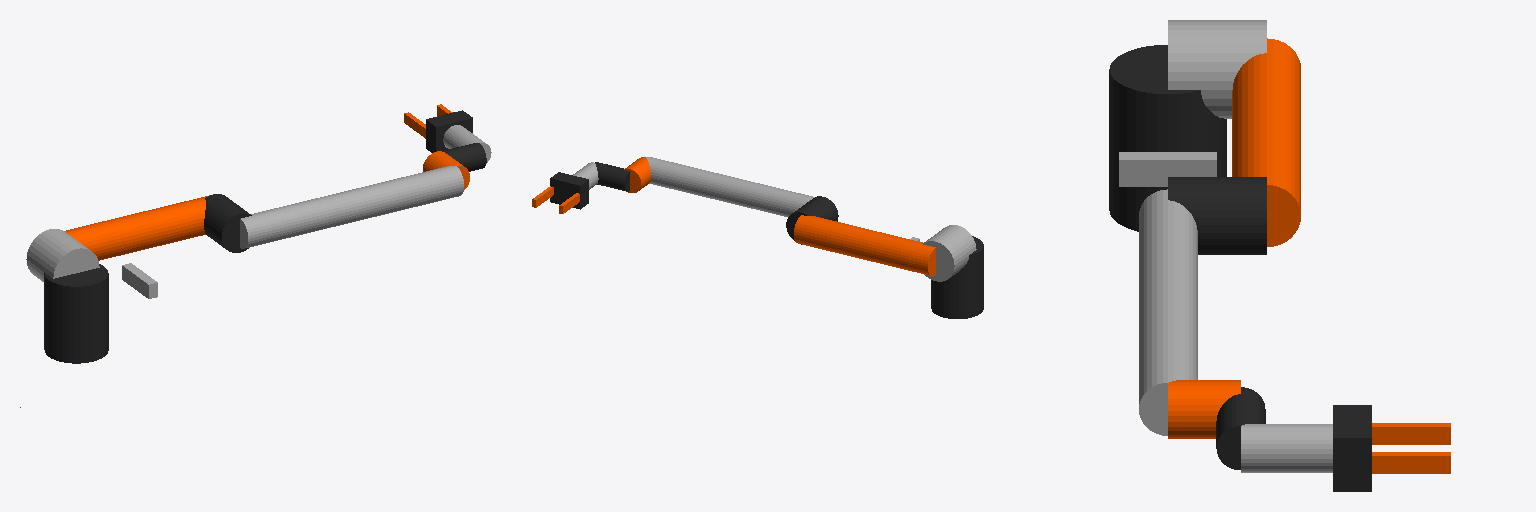
URDF robot description (rescue_robot):
<?xml version="1.0" ?>
<!-- =================================================================================== -->
<!-- |    This document was autogenerated by xacro from rescue_robot_v2.urdf.xacro     | -->
<!-- |    EDITING THIS FILE BY HAND IS NOT RECOMMENDED                                 | -->
<!-- =================================================================================== -->
<robot name="rescue_robot">
  <!-- ================= MATERIALES ================= -->
  <material name="gray">
    <color rgba="0.7 0.7 0.7 1.0"/>
  </material>
  <material name="orange">
    <color rgba="1.0 0.4 0.0 1.0"/>
  </material>
  <material name="black">
    <color rgba="0.2 0.2 0.2 1.0"/>
  </material>
  <material name="silver">
    <color rgba="0.75 0.75 0.75 1.0"/>
  </material>
  <!-- ================= BASE ROBOT ================= -->
  <link name="base_footprint">
    <visual>
      <geometry>
        <box size="0.001 0.001 0.001"/>
      </geometry>
    </visual>
  </link>
  <joint name="base_to_base_footprint" type="fixed">
    <parent link="base_link"/>
    <child link="base_footprint"/>
    <origin rpy="0 0 0" xyz="0 0 -0.03"/>
  </joint>
  <link name="base_link">
    <inertial>
      <origin rpy="0 0 0" xyz="0 0 0"/>
      <mass value="25"/>
      <inertia ixx="1.238151" ixy="0.0" ixz="0.0" iyy="1.620218" iyz="-0.0" izz="2.702376"/>
    </inertial>
    <visual>
      <origin rpy="0 0 0" xyz="0 0.55 0"/>
      <geometry>
        <mesh filename="package://aesir_robot_description/meshes/base_link.stl" scale="0.001 0.001 0.001"/>
      </geometry>
      <material name="silver"/>
    </visual>
    <collision>
      <origin rpy="0 0 0" xyz="0 0.55 0"/>
      <geometry>
        <mesh filename="package://aesir_robot_description/meshes/base_link.stl" scale="0.001 0.001 0.001"/>
      </geometry>
    </collision>
  </link>
  <link name="tracked_1_link">
    <inertial>
      <origin rpy="0 0 0" xyz="0 0 0"/>
      <mass value="3.5"/>
      <inertia ixx="0.064824" ixy="0.0" ixz="-0.0" iyy="0.377269" iyz="-0.0" izz="0.351452"/>
    </inertial>
    <visual>
      <origin rpy="0 0 0" xyz="0.24 0.806 -0.06"/>
      <geometry>
        <mesh filename="package://aesir_robot_description/meshes/tracked_1.stl" scale="0.001 0.001 0.001"/>
      </geometry>
      <material name="silver"/>
    </visual>
    <collision>
      <origin rpy="0 0 0" xyz="0.24 0.806 -0.06"/>
      <geometry>
        <mesh filename="package://aesir_robot_description/meshes/tracked_1.stl" scale="0.001 0.001 0.001"/>
      </geometry>
    </collision>
  </link>
  <link name="tracked_2_link">
    <inertial>
      <origin rpy="0 0 0" xyz="0 0 0"/>
      <mass value="3.5"/>
      <inertia ixx="0.064824" ixy="0.0" ixz="-0.0" iyy="0.377269" iyz="0.0" izz="0.351452"/>
    </inertial>
    <visual>
      <origin rpy="0 0 0" xyz="0.24 0.306 -0.06"/>
      <geometry>
        <mesh filename="package://aesir_robot_description/meshes/tracked_2.stl" scale="0.001 0.001 0.001"/>
      </geometry>
      <material name="silver"/>
    </visual>
    <collision>
      <origin rpy="0 0 0" xyz="0.24 0.306 -0.06"/>
      <geometry>
        <mesh filename="package://aesir_robot_description/meshes/tracked_2.stl" scale="0.001 0.001 0.001"/>
      </geometry>
    </collision>
  </link>
  <!-- ================= SENSORS ================= -->
  <link name="lidar_link">
    <visual>
      <origin rpy="0 0 0" xyz="0 0 0"/>
      <geometry>
        <mesh filename="package://aesir_robot_description/meshes/lidar.stl" scale="0.001 0.001 0.001"/>
      </geometry>
      <material name="black"/>
    </visual>
    <collision>
      <origin rpy="0 0 0" xyz="0 0 0"/>
      <geometry>
        <mesh filename="package://aesir_robot_description/meshes/lidar.stl" scale="0.001 0.001 0.001"/>
      </geometry>
    </collision>
    <inertial>
      <mass value="0.2"/>
      <inertia ixx="0.001" ixy="0" ixz="0" iyy="0.001" iyz="0" izz="0.001"/>
    </inertial>
  </link>
  <joint name="lidar_joint" type="fixed">
    <parent link="base_link"/>
    <child link="lidar_link"/>
    <origin rpy="0 0.785398 0" xyz="0.320 0 0.105"/>
  </joint>
  <link name="oakd_link">
    <visual>
      <geometry>
        <box size="0.02 0.1 0.03"/>
      </geometry>
      <material name="gray"/>
    </visual>
    <collision>
      <geometry>
        <box size="0.02 0.1 0.03"/>
      </geometry>
    </collision>
    <inertial>
      <mass value="0.1"/>
      <inertia ixx="0.0001" ixy="0" ixz="0" iyy="0.0001" iyz="0" izz="0.0001"/>
    </inertial>
  </link>
  <joint name="oakd_joint" type="fixed">
    <parent link="base_link"/>
    <child link="oakd_link"/>
    <origin rpy="0 0 0" xyz="0.257 0 0.17"/>
  </joint>
  <link name="arm_camera_link">
    <visual>
      <origin rpy="0 0 -1.5708" xyz="0.02 0.04 -0.2"/>
      <geometry>
        <mesh filename="package://aesir_robot_description/meshes/logitech_c920.stl" scale="0.001 0.001 0.001"/>
      </geometry>
      <material name="black"/>
    </visual>
    <collision>
      <origin rpy="0 0 -1.5708" xyz="0.02 0.04 -0.2"/>
      <geometry>
        <mesh filename="package://aesir_robot_description/meshes/logitech_c920.stl" scale="0.001 0.001 0.001"/>
      </geometry>
    </collision>
    <inertial>
      <mass value="0.05"/>
      <inertia ixx="0.00001" ixy="0" ixz="0" iyy="0.00001" iyz="0" izz="0.00001"/>
    </inertial>
  </link>
  <joint name="arm_camera_joint" type="fixed">
    <parent link="link_6"/>
    <child link="arm_camera_link"/>
    <origin rpy="-0.174533 0 0" xyz="0 0 0.06"/>
  </joint>
  <link name="back_camera_link">
    <visual>
      <origin rpy="0 0 3.14159" xyz="0.04 -0.027 -0.19"/>
      <geometry>
        <mesh filename="package://aesir_robot_description/meshes/logitech_c920.stl" scale="0.001 0.001 0.001"/>
      </geometry>
      <material name="black"/>
    </visual>
    <collision>
      <origin rpy="0 0 3.14159" xyz="0.04 -0.027 -0.19"/>
      <geometry>
        <mesh filename="package://aesir_robot_description/meshes/logitech_c920.stl" scale="0.001 0.001 0.001"/>
      </geometry>
    </collision>
    <inertial>
      <mass value="0.05"/>
      <inertia ixx="0.00001" ixy="0" ixz="0" iyy="0.00001" iyz="0" izz="0.00001"/>
    </inertial>
  </link>
  <joint name="back_camera_joint" type="fixed">
    <parent link="base_link"/>
    <child link="back_camera_link"/>
    <origin rpy="0 0 3.14159" xyz="-0.30 0 0.17"/>
  </joint>
  <!-- ================= FLIPPER 1 ================= -->
  <link name="flipper_1_link">
    <inertial>
      <origin rpy="0 0 0" xyz="5.551115123125783e-17 0.003554085914685201 0.15154044804505273"/>
      <mass value="3.742066453745571"/>
      <inertia ixx="0.065573" ixy="0.0" ixz="-0.0" iyy="0.072966" iyz="-0.00082" izz="0.008972"/>
    </inertial>
    <visual>
      <origin rpy="0 0 0" xyz="0.24 0.276 -0.06"/>
      <geometry>
        <mesh filename="package://aesir_robot_description/meshes/flipper_1_1.stl" scale="0.001 0.001 0.001"/>
      </geometry>
      <material name="silver"/>
    </visual>
    <collision>
      <origin rpy="0 0 3.14159" xyz="0.24 0.276 -0.06"/>
      <geometry>
        <mesh filename="package://aesir_robot_description/meshes/flipper_1_1.stl" scale="0.001 0.001 0.001"/>
      </geometry>
    </collision>
  </link>
  <!-- ================= FLIPPER 2 ================= -->
  <link name="flipper_2_link">
    <inertial>
      <origin rpy="0 0 0" xyz="-2.7755575615628914e-17 -0.0035540859146853676 0.15154044804505265"/>
      <mass value="3.7420664537455717"/>
      <inertia ixx="0.065573" ixy="0.0" ixz="0.0" iyy="0.072966" iyz="0.00082" izz="0.008972"/>
    </inertial>
    <visual>
      <origin rpy="0 0 0" xyz="-0.24 0.276 -0.06"/>
      <geometry>
        <mesh filename="package://aesir_robot_description/meshes/flipper_4_1.stl" scale="0.001 0.001 0.001"/>
      </geometry>
      <material name="silver"/>
    </visual>
    <collision>
      <origin rpy="0 0 0" xyz="-0.24 0.276 -0.06"/>
      <geometry>
        <mesh filename="package://aesir_robot_description/meshes/flipper_4_1.stl" scale="0.001 0.001 0.001"/>
      </geometry>
    </collision>
  </link>
  <!-- ================= FLIPPER 3 ================= -->
  <link name="flipper_3_link">
    <inertial>
      <origin rpy="0 0 0" xyz="5.551115123125783e-17 -0.0035540859146853676 0.15154044804505276"/>
      <mass value="3.7420664537455717"/>
      <inertia ixx="0.065573" ixy="-0.0" ixz="0.0" iyy="0.072966" iyz="0.00082" izz="0.008972"/>
    </inertial>
    <visual>
      <origin rpy="0 0 0" xyz="0.24 0.276 -0.06"/>
      <geometry>
        <mesh filename="package://aesir_robot_description/meshes/flipper_3_1.stl" scale="0.001 0.001 0.001"/>
      </geometry>
      <material name="silver"/>
    </visual>
    <collision>
      <origin rpy="0 0 0" xyz="0.24 0.276 -0.06"/>
      <geometry>
        <mesh filename="package://aesir_robot_description/meshes/flipper_3_1.stl" scale="0.001 0.001 0.001"/>
      </geometry>
    </collision>
  </link>
  <!-- ================= FLIPPER 4 ================= -->
  <link name="flipper_4_link">
    <inertial>
      <origin rpy="0 0 0" xyz="-2.7755575615628914e-17 -0.0035540859146853676 0.15154044804505265"/>
      <mass value="3.7420664537455717"/>
      <inertia ixx="0.065573" ixy="0.0" ixz="0.0" iyy="0.072966" iyz="0.00082" izz="0.008972"/>
    </inertial>
    <visual>
      <origin rpy="0 0 0" xyz="-0.24 0.276 -0.06"/>
      <geometry>
        <mesh filename="package://aesir_robot_description/meshes/flipper_4_1.stl" scale="0.001 0.001 0.001"/>
      </geometry>
      <material name="silver"/>
    </visual>
    <collision>
      <origin rpy="0 0 0" xyz="-0.24 0.276 -0.06"/>
      <geometry>
        <mesh filename="package://aesir_robot_description/meshes/flipper_4_1.stl" scale="0.001 0.001 0.001"/>
      </geometry>
    </collision>
  </link>
  <!-- ================= JOINTS BASE AND FLIPPERS ================= -->
  <joint name="Rigid 1" type="fixed">
    <origin rpy="0 0 0" xyz="-0.24 -0.256 0.06"/>
    <parent link="base_link"/>
    <child link="tracked_1_link"/>
  </joint>
  <joint name="Rigid 2" type="fixed">
    <origin rpy="0 0 0" xyz="-0.24 0.256 0.06"/>
    <parent link="base_link"/>
    <child link="tracked_2_link"/>
  </joint>
  <joint name="flipper_joint_1" type="continuous">
    <origin rpy="0 0 0" xyz="-0.24 -0.256 0.06"/>
    <parent link="base_link"/>
    <child link="flipper_1_link"/>
    <axis xyz="0.0 -1.0 0.0"/>
  </joint>
  <joint name="flipper_joint_2" type="continuous">
    <origin rpy="0 0 0" xyz="0.24 -0.256 0.06"/>
    <parent link="base_link"/>
    <child link="flipper_2_link"/>
    <axis xyz="0.0 -1.0 0.0"/>
  </joint>
  <joint name="flipper_joint_3" type="continuous">
    <origin rpy="0 0 0" xyz="0.24 0.256 0.06"/>
    <parent link="base_link"/>
    <child link="flipper_4_link"/>
    <axis xyz="0.0 1.0 0.0"/>
  </joint>
  <joint name="flipper_joint_4" type="continuous">
    <origin rpy="0 0 0" xyz="-0.24 0.256 0.06"/>
    <parent link="base_link"/>
    <child link="flipper_3_link"/>
    <axis xyz="0.0 1.0 0.0"/>
  </joint>
  <!-- ================= BASE ARM ================= -->
  <joint name="arm_mount_joint" type="fixed">
    <parent link="base_link"/>
    <child link="arm_base_link"/>
    <origin rpy="0 0 0" xyz="0.12 0 0.06"/>
  </joint>
  <link name="arm_base_link">
    <visual>
      <origin rpy="0 0 0" xyz="0 0 0.07915"/>
      <geometry>
        <cylinder length="0.1583" radius="0.06"/>
      </geometry>
      <material name="black"/>
    </visual>
    <collision>
      <origin rpy="0 0 0" xyz="0 0 0.07915"/>
      <geometry>
        <cylinder length="0.1583" radius="0.06"/>
      </geometry>
    </collision>
  </link>
  <!-- ================= JOINT 1 ================= -->
  <joint name="joint_1" type="revolute">
    <parent link="arm_base_link"/>
    <child link="link_1"/>
    <origin rpy="0 0 0" xyz="0 0 0.1583"/>
    <axis xyz="0 0 1"/>
    <limit effort="150.0" lower="-3.14" upper="3.14" velocity="3.14"/>
  </joint>
  <link name="link_1">
    <visual>
      <origin rpy="1.5707963267948966 0 0" xyz="0 0.05015 0"/>
      <geometry>
        <cylinder length="0.1003" radius="0.05"/>
      </geometry>
      <material name="gray"/>
    </visual>
    <collision>
      <origin rpy="1.5707963267948966 0 0" xyz="0 0.05015 0"/>
      <geometry>
        <cylinder length="0.1003" radius="0.05"/>
      </geometry>
    </collision>
    <inertial>
      <origin rpy="0 0 0" xyz="0 0 0"/>
      <mass value="1.5"/>
      <inertia ixx="0.01" ixy="0" ixz="0" iyy="0.01" iyz="0" izz="0.005"/>
    </inertial>
  </link>
  <!-- ================= JOINT 2 ================= -->
  <joint name="joint_2" type="revolute">
    <parent link="link_1"/>
    <child link="link_2"/>
    <origin rpy="0 0 0" xyz="0 0.1003 0"/>
    <axis xyz="0 1 0"/>
    <limit effort="150.0" lower="-3.14" upper="3.14" velocity="3.14"/>
  </joint>
  <link name="link_2">
    <visual>
      <origin rpy="0 1.5707963267948966 0" xyz="0.17658 0 0"/>
      <geometry>
        <cylinder length="0.35316" radius="0.035"/>
      </geometry>
      <material name="orange"/>
    </visual>
    <collision>
      <origin rpy="0 1.5707963267948966 0" xyz="0.17658 0 0"/>
      <geometry>
        <cylinder length="0.35316" radius="0.035"/>
      </geometry>
    </collision>
    <visual>
      <origin rpy="1.5707963267948966 0 0" xyz="0.35316 -0.05015 0"/>
      <geometry>
        <cylinder length="0.1003" radius="0.04"/>
      </geometry>
      <material name="black"/>
    </visual>
    <collision>
      <origin rpy="1.5707963267948966 0 0" xyz="0.35316 -0.05015 0"/>
      <geometry>
        <cylinder length="0.1003" radius="0.04"/>
      </geometry>
    </collision>
    <inertial>
      <origin rpy="0 0 0" xyz="0 0 0"/>
      <mass value="1.5"/>
      <inertia ixx="0.01" ixy="0" ixz="0" iyy="0.01" iyz="0" izz="0.005"/>
    </inertial>
  </link>
  <!-- ================= JOINT 3 ================= -->
  <joint name="joint_3" type="revolute">
    <parent link="link_2"/>
    <child link="link_3"/>
    <origin rpy="0 0 0" xyz="0.35316 -0.1003 0"/>
    <axis xyz="0 1 0"/>
    <limit effort="150.0" lower="-3.14" upper="3.14" velocity="3.14"/>
  </joint>
  <link name="link_3">
    <visual>
      <origin rpy="0 1.5707963267948966 0" xyz="0.233 0 0"/>
      <geometry>
        <cylinder length="0.466" radius="0.03"/>
      </geometry>
      <material name="gray"/>
    </visual>
    <collision>
      <origin rpy="0 1.5707963267948966 0" xyz="0.233 0 0"/>
      <geometry>
        <cylinder length="0.466" radius="0.03"/>
      </geometry>
    </collision>
    <visual>
      <origin rpy="1.5707963267948966 0 0" xyz="0.466 0.037 0"/>
      <geometry>
        <cylinder length="0.074" radius="0.03"/>
      </geometry>
      <material name="orange"/>
    </visual>
    <collision>
      <origin rpy="1.5707963267948966 0 0" xyz="0.466 0.037 0"/>
      <geometry>
        <cylinder length="0.074" radius="0.03"/>
      </geometry>
    </collision>
    <inertial>
      <origin rpy="0 0 0" xyz="0 0 0"/>
      <mass value="1.5"/>
      <inertia ixx="0.01" ixy="0" ixz="0" iyy="0.01" iyz="0" izz="0.005"/>
    </inertial>
  </link>
  <!-- ================= JOINT 4 ================= -->
  <joint name="joint_4" type="revolute">
    <parent link="link_3"/>
    <child link="link_4"/>
    <origin rpy="0 0 0" xyz="0.466 0.074 0"/>
    <axis xyz="0 1 0"/>
    <limit effort="50.0" lower="-3.14" upper="3.14" velocity="3.14"/>
  </joint>
  <link name="link_4">
    <visual>
      <origin rpy="0 1.5707963267948966 0" xyz="0.04675 0 0"/>
      <geometry>
        <cylinder length="0.0935" radius="0.025"/>
      </geometry>
      <material name="black"/>
    </visual>
    <collision>
      <origin rpy="0 1.5707963267948966 0" xyz="0.04675 0 0"/>
      <geometry>
        <cylinder length="0.0935" radius="0.025"/>
      </geometry>
    </collision>
    <inertial>
      <origin rpy="0 0 0" xyz="0 0 0"/>
      <mass value="1.5"/>
      <inertia ixx="0.01" ixy="0" ixz="0" iyy="0.01" iyz="0" izz="0.005"/>
    </inertial>
  </link>
  <!-- ================= JOINT 5 ================= -->
  <joint name="joint_5" type="revolute">
    <parent link="link_4"/>
    <child link="link_5"/>
    <origin rpy="0 0 0" xyz="0.0935 0 0"/>
    <axis xyz="1 0 0"/>
    <limit effort="50.0" lower="-3.14" upper="3.14" velocity="3.14"/>
  </joint>
  <link name="link_5">
    <visual>
      <origin rpy="1.5707963267948966 0 0" xyz="0 0.04675 0"/>
      <geometry>
        <cylinder length="0.0935" radius="0.025"/>
      </geometry>
      <material name="gray"/>
    </visual>
    <collision>
      <origin rpy="1.5707963267948966 0 0" xyz="0 0.04675 0"/>
      <geometry>
        <cylinder length="0.0935" radius="0.025"/>
      </geometry>
    </collision>
    <inertial>
      <origin rpy="0 0 0" xyz="0 0 0"/>
      <mass value="1.5"/>
      <inertia ixx="0.01" ixy="0" ixz="0" iyy="0.01" iyz="0" izz="0.005"/>
    </inertial>
  </link>
  <!-- ================= JOINT 6 ================= -->
  <joint name="joint_6" type="revolute">
    <parent link="link_5"/>
    <child link="link_6"/>
    <origin rpy="0 0 0" xyz="0 0.0935 0"/>
    <axis xyz="0 1 0"/>
    <limit effort="50.0" lower="-3.14" upper="3.14" velocity="3.14"/>
  </joint>
  <link name="link_6">
    <visual>
      <origin rpy="-1.5707963267948966 0 0" xyz="0 0 0"/>
      <geometry>
        <cylinder length="0.001" radius="0.01"/>
      </geometry>
      <material name="orange"/>
    </visual>
    <collision>
      <origin rpy="-1.5707963267948966 0 0" xyz="0 0 0"/>
      <geometry>
        <cylinder length="0.001" radius="0.01"/>
      </geometry>
    </collision>
    <inertial>
      <origin rpy="0 0 0" xyz="0 0 0"/>
      <mass value="1.5"/>
      <inertia ixx="0.01" ixy="0" ixz="0" iyy="0.01" iyz="0" izz="0.005"/>
    </inertial>
  </link>
  <!-- ================= GRIPPER ================= -->
  <link name="gripper_base_link">
    <visual>
      <origin rpy="0 0 0" xyz="0 0.02 0"/>
      <geometry>
        <box size="0.08 0.04 0.06"/>
      </geometry>
      <material name="black"/>
    </visual>
    <collision>
      <origin rpy="0 0 0" xyz="0 0.02 0"/>
      <geometry>
        <box size="0.08 0.04 0.06"/>
      </geometry>
    </collision>
    <inertial>
      <mass value="0.3"/>
      <inertia ixx="0.001" ixy="0" ixz="0" iyy="0.001" iyz="0" izz="0.001"/>
    </inertial>
  </link>
  <joint name="gripper_mount_joint" type="fixed">
    <parent link="link_6"/>
    <child link="gripper_base_link"/>
    <origin rpy="0 0 0" xyz="0 0 0"/>
  </joint>
  <link name="left_finger_link">
    <visual>
      <origin rpy="0 0 0" xyz="0 0.04 0"/>
      <geometry>
        <box size="0.01 0.08 0.02"/>
      </geometry>
      <material name="orange"/>
    </visual>
    <collision>
      <origin rpy="0 0 0" xyz="0 0.04 0"/>
      <geometry>
        <box size="0.01 0.08 0.02"/>
      </geometry>
    </collision>
    <inertial>
      <mass value="0.05"/>
      <inertia ixx="0.0001" ixy="0" ixz="0" iyy="0.0001" iyz="0" izz="0.0001"/>
    </inertial>
  </link>
  <joint name="left_finger_joint" type="prismatic">
    <parent link="gripper_base_link"/>
    <child link="left_finger_link"/>
    <origin rpy="0 0 0" xyz="-0.035 0.04 0"/>
    <axis xyz="1 0 0"/>
    <limit effort="50.0" lower="0" upper="0.03" velocity="0.5"/>
  </joint>
  <link name="right_finger_link">
    <visual>
      <origin rpy="0 0 0" xyz="0 0.04 0"/>
      <geometry>
        <box size="0.01 0.08 0.02"/>
      </geometry>
      <material name="orange"/>
    </visual>
    <collision>
      <origin rpy="0 0 0" xyz="0 0.04 0"/>
      <geometry>
        <box size="0.01 0.08 0.02"/>
      </geometry>
    </collision>
    <inertial>
      <mass value="0.05"/>
      <inertia ixx="0.0001" ixy="0" ixz="0" iyy="0.0001" iyz="0" izz="0.0001"/>
    </inertial>
  </link>
  <joint name="right_finger_joint" type="prismatic">
    <parent link="gripper_base_link"/>
    <child link="right_finger_link"/>
    <origin rpy="0 0 0" xyz="0.035 0.04 0"/>
    <axis xyz="-1 0 0"/>
    <limit effort="50.0" lower="0" upper="0.03" velocity="0.5"/>
  </joint>
</robot>

--- Facts derived from the render (not from the file) ---
3 views of the same robot in one strip: view 1: azimuth 30°, elevation 25°; view 2: azimuth 150°, elevation 25°; view 3: azimuth 270°, elevation 25° (orthographic).
Model rescue_robot with 22 links and 21 joints (6 revolute, 4 continuous, 2 prismatic, 9 fixed), rooted at base_link, posed all joints at 0.
Links seen in each view (by area): view 1: link_3, link_2, arm_base_link, link_1, gripper_base_link, oakd_link, link_4, link_5; view 2: link_2, link_3, arm_base_link, link_1, gripper_base_link, link_4; view 3: link_2, link_3, arm_base_link, link_1, link_5, gripper_base_link, oakd_link, link_4, left_finger_link, right_finger_link.
Boxes of the visible links, x1=… form: link_3: x1=240, y1=151, x2=469, y2=248; link_2: x1=65, y1=194, x2=251, y2=260; arm_base_link: x1=44, y1=264, x2=108, y2=363; link_1: x1=26, y1=229, x2=99, y2=281; gripper_base_link: x1=426, y1=110, x2=472, y2=152; oakd_link: x1=122, y1=263, x2=157, y2=298; link_4: x1=442, y1=143, x2=486, y2=171; link_5: x1=443, y1=125, x2=491, y2=163; link_2: x1=786, y1=196, x2=935, y2=275; link_3: x1=624, y1=157, x2=814, y2=216; arm_base_link: x1=931, y1=236, x2=983, y2=318; link_1: x1=923, y1=225, x2=976, y2=281; gripper_base_link: x1=550, y1=172, x2=588, y2=209; link_4: x1=595, y1=162, x2=629, y2=191; link_2: x1=1168, y1=38, x2=1300, y2=254; link_3: x1=1139, y1=189, x2=1240, y2=438; arm_base_link: x1=1109, y1=45, x2=1226, y2=231; link_1: x1=1168, y1=20, x2=1266, y2=118; link_5: x1=1241, y1=424, x2=1332, y2=472; gripper_base_link: x1=1333, y1=405, x2=1371, y2=491; oakd_link: x1=1119, y1=152, x2=1216, y2=186; link_4: x1=1216, y1=387, x2=1265, y2=469; left_finger_link: x1=1372, y1=423, x2=1450, y2=444; right_finger_link: x1=1372, y1=452, x2=1450, y2=473.
Bounding box of the posed robot: 1.07 × 0.3475 × 0.2988 m (x, y, z).
Meshes: 8 distinct files referenced, 0 mesh visuals loaded (none loaded); not drawn: 10 (reference not matched to a file when rendering).
